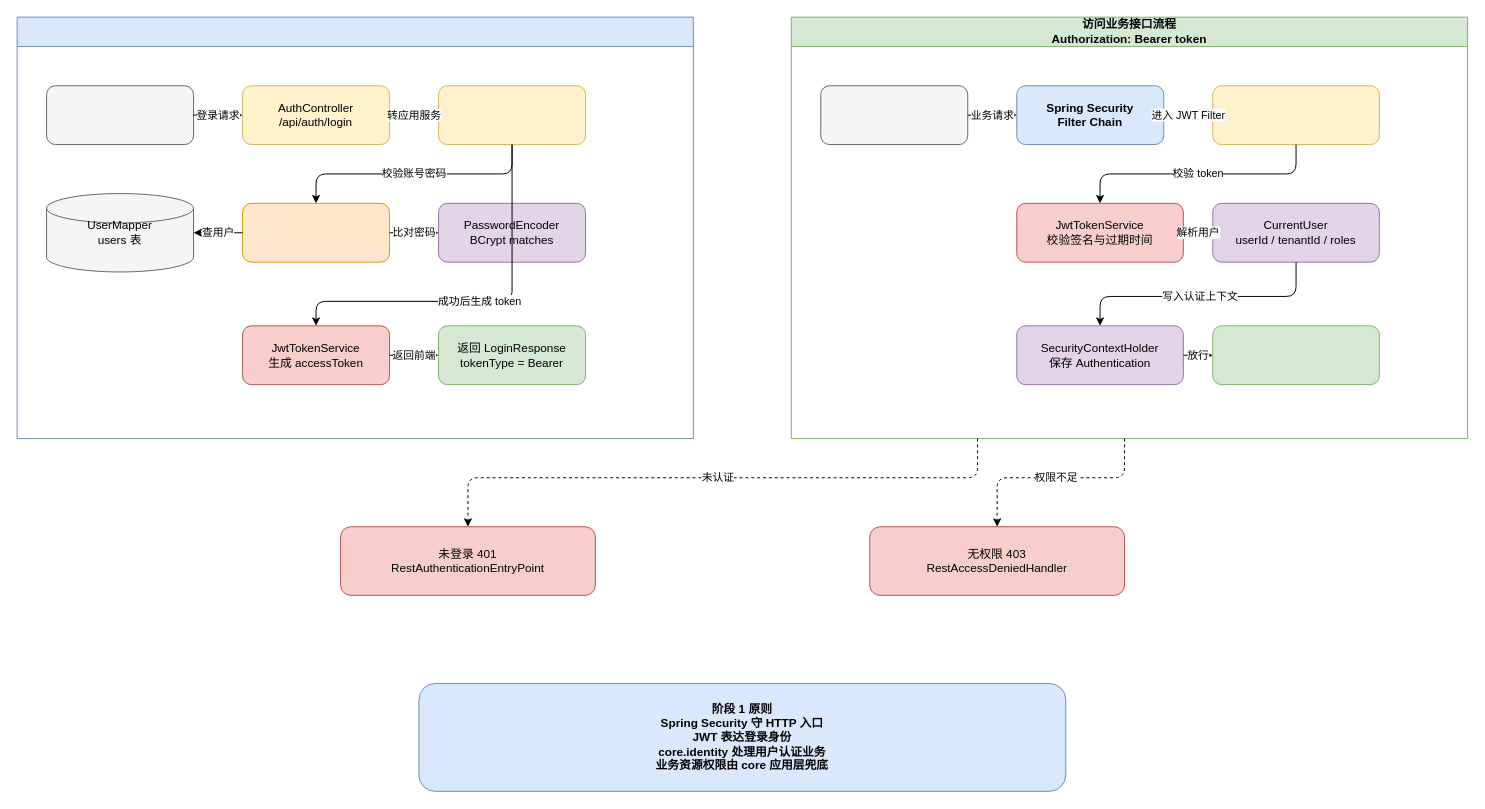
The diagram is 1485 pixels wide and 809 high, and some of its shapes have lost their labels. Here are the shapes that lost their labels. From the top down, the box of each, then its label:
(46, 85, 194, 145): Frontend 输入用户名密码
(438, 85, 586, 145): AuthAppService 编排登录
(820, 85, 968, 145): Frontend 携带 Bearer Token
(1212, 85, 1379, 145): JwtAuthenticationFilter 解析 Authorization
(242, 202, 390, 262): IdentityAuthService core.identity
(16, 16, 693, 439): 登录流程 POST /api/auth/login
(1212, 325, 1379, 385): Controller @AuthenticationPrincipal
